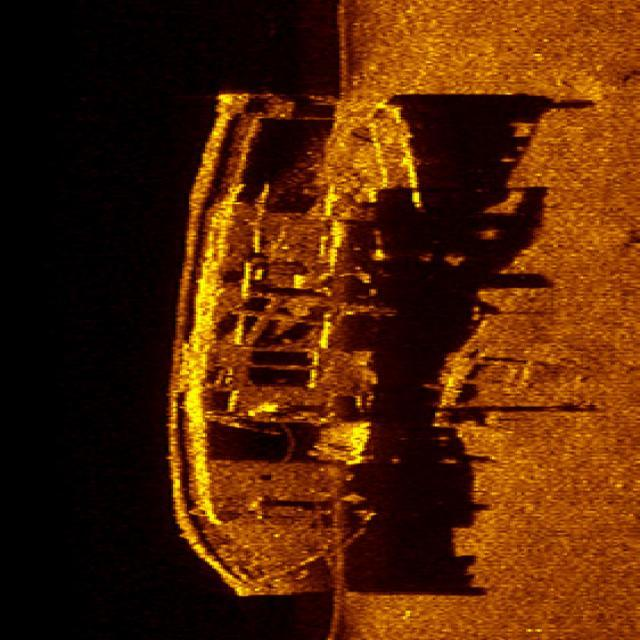shipwreck: (180, 82, 410, 601)
